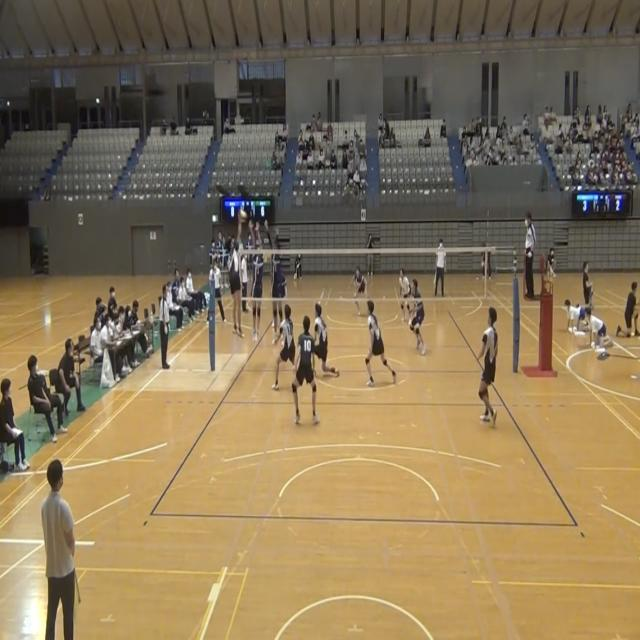spike: (225, 205, 250, 344)
